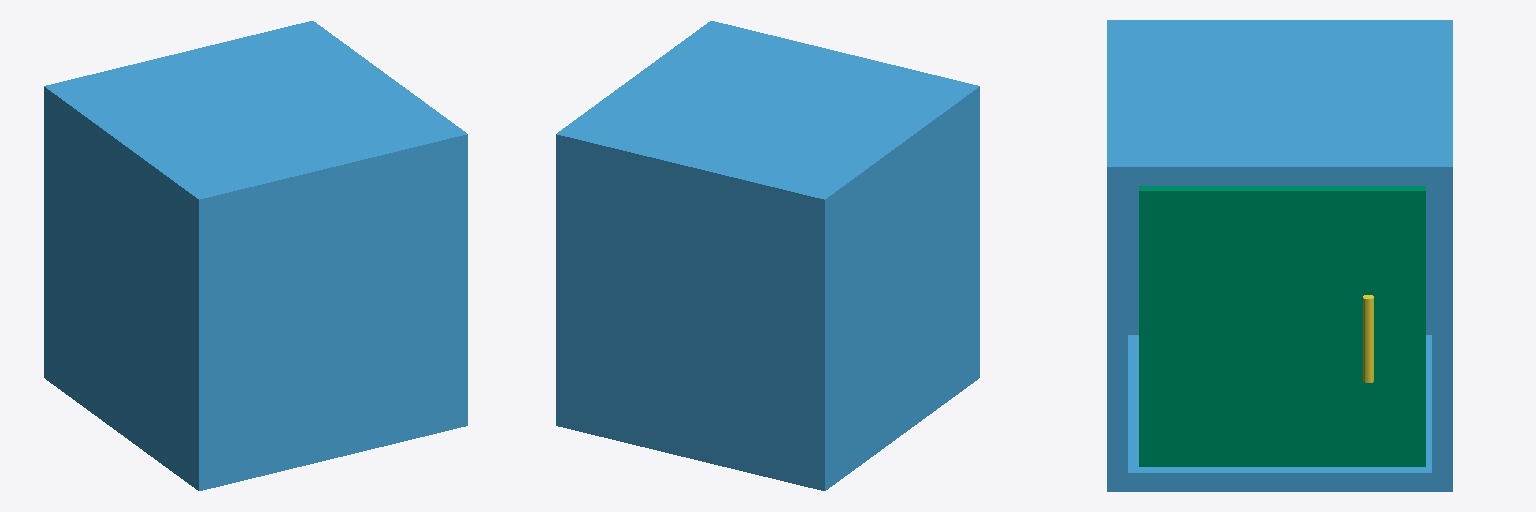
The robot description file, URDF, robot "my_cabinet":
<?xml version="1.0" ?>
<robot name="my_cabinet">
	<link name="world"/>
	<joint name="virtual_joint" type="fixed">
		<parent link="world"/>
		<child link="base_cabinet_link"/>
		<origin xyz="0.0 0.0 0.0" rpy="0.0 0.0 0.0"/>
	</joint>
	<link name="base_cabinet_link">
		<visual>
			<origin xyz="0.0 -0.0025 -0.1463253266867344" rpy="0.0 0.0 0.0"/>
			<geometry>
				<box size="0.3 0.29970292418394606 0.018"/>
			</geometry>
		</visual>
		<collision name="base_cabinet_link_collision_0">
			<origin xyz="0.0 -0.0025 -0.1463253266867344" rpy="0.0 0.0 0.0"/>
			<geometry>
				<box size="0.3 0.29970292418394606 0.018"/>
			</geometry>
		</collision>
		<visual>
			<origin xyz="0.0 0.13835146209197305 0.0" rpy="0.0 0.0 0.0"/>
			<geometry>
				<box size="0.3 0.018 0.3106506533734688"/>
			</geometry>
		</visual>
		<collision name="base_cabinet_link_collision_1">
			<origin xyz="0.0 0.13835146209197305 0.0" rpy="0.0 0.0 0.0"/>
			<geometry>
				<box size="0.3 0.018 0.3106506533734688"/>
			</geometry>
		</collision>
		<visual>
			<origin xyz="0.0 -0.14335146209197305 0.0" rpy="0.0 0.0 0.0"/>
			<geometry>
				<box size="0.3 0.018 0.3106506533734688"/>
			</geometry>
		</visual>
		<collision name="base_cabinet_link_collision_2">
			<origin xyz="0.0 -0.14335146209197305 0.0" rpy="0.0 0.0 0.0"/>
			<geometry>
				<box size="0.3 0.018 0.3106506533734688"/>
			</geometry>
		</collision>
		<visual>
			<origin xyz="0.0 -0.0025 0.1463253266867344" rpy="0.0 0.0 0.0"/>
			<geometry>
				<box size="0.3 0.29970292418394606 0.018"/>
			</geometry>
		</visual>
		<collision name="base_cabinet_link_collision_3">
			<origin xyz="0.0 -0.0025 0.1463253266867344" rpy="0.0 0.0 0.0"/>
			<geometry>
				<box size="0.3 0.29970292418394606 0.018"/>
			</geometry>
		</collision>
		<visual>
			<origin xyz="-0.141 -0.0025 0.0" rpy="0.0 0.0 0.0"/>
			<geometry>
				<box size="0.018 0.29970292418394606 0.3106506533734688"/>
			</geometry>
		</visual>
		<collision name="base_cabinet_link_collision_4">
			<origin xyz="-0.141 -0.0025 0.0" rpy="0.0 0.0 0.0"/>
			<geometry>
				<box size="0.018 0.29970292418394606 0.3106506533734688"/>
			</geometry>
		</collision>
		<inertial>
			<mass value="0.200000"/>
			<inertia ixx="0.003105" ixy="0.0" ixz="0.0" iyy="0.003108" iyz="0.0" izz="0.002997"/>
		</inertial>
	</link>
	<link name="door_link">
		<visual>
			<origin xyz="0.0 -0.12435146209197304 0.0"/>
			<geometry>
				<box size="0.018 0.24870292418394607 0.26465065337346877"/>
			</geometry>
		</visual>
		<collision name="door_link_collision">
			<origin xyz="0.0 -0.12435146209197304 0.0"/>
			<geometry>
				<box size="0.018 0.24870292418394607 0.26465065337346877"/>
			</geometry>
		</collision>
		<inertial>
			<mass value="0.200000"/>
			<inertia ixx="0.002198" ixy="0.0" ixz="0.0" iyy="0.001173" iyz="0.0" izz="0.001036"/>
		</inertial>
	</link>
	<joint name="door_joint" type="revolute">
		<origin xyz="0.141 -0.12435146209197304 0.0" rpy="0.000000 -0.000000 3.141593"/>
		<axis xyz="0 0 1"/>
		<parent link="base_cabinet_link"/>
		<child link="door_link"/>
		<limit effort="50" lower="-1.658062789394613" upper="0" velocity="10"/>
		<dynamics friction="3.5" damping="3.5"/>
	</joint>
	<link name="handle_link">
		<visual>
			<origin xyz="0.0 0.0 0.0" rpy="0.0 0.0 0.0"/>
			<geometry>
				<cylinder length="0.08" radius="0.005"/>
			</geometry>
		</visual>
		<collision name="handle_link_collision_0">
			<origin xyz="0.0 0.0 0.0" rpy="0.0 0.0 0.0"/>
			<geometry>
				<cylinder length="0.08" radius="0.005"/>
			</geometry>
		</collision>
		<visual>
			<origin xyz="-0.01 0.0 0.02" rpy="0.0 1.5707963267948966 0.0"/>
			<geometry>
				<cylinder length="0.02" radius="0.003"/>
			</geometry>
		</visual>
		<collision name="handle_link_collision_1">
			<origin xyz="-0.01 0.0 0.02" rpy="0.0 1.5707963267948966 0.0"/>
			<geometry>
				<cylinder length="0.01" radius="0.003"/>
			</geometry>
		</collision>
		<visual>
			<origin xyz="-0.01 0.0 -0.02" rpy="0.0 1.5707963267948966 0.0"/>
			<geometry>
				<cylinder length="0.02" radius="0.003"/>
			</geometry>
		</visual>
		<collision name="handle_link_collision_2">
			<origin xyz="-0.01 0.0 -0.02" rpy="0.0 1.5707963267948966 0.0"/>
			<geometry>
				<cylinder length="0.02" radius="0.003"/>
			</geometry>
		</collision>
		<inertial>
			<mass value="0.050000"/>
			<inertia ixx="0.000027" ixy="0.0" ixz="0.0" iyy="0.000029" iyz="0.0" izz="0.000003"/>
		</inertial>
	</link>
	<joint name="handle_joint" type="fixed">
		<origin xyz="-0.028999999999999998 -0.19870292418394608 0.0" rpy="0.000000 -0.000000 3.141593"/>
		<parent link="door_link"/>
		<child link="handle_link"/>
	</joint>
	<gazebo reference="base_cabinet_link">
		<sensor name="main_sensor" type="contact">
			<selfCollide>true</selfCollide>
			<alwaysOn>true</alwaysOn>
			<updateRate>5.0</updateRate>
			<material>Gazebo/Red</material>
			<contact>
				<collision>base_cabinet_link_collision_0_collision</collision>
				<collision>base_cabinet_link_collision_1_collision</collision>
				<collision>base_cabinet_link_collision_2_collision</collision>
				<collision>base_cabinet_link_collision_3_collision</collision>
				<collision>base_cabinet_link_collision_4_collision</collision>
			</contact>
			<plugin name="gazebo_ros_bumper_controller" filename="libgazebo_ros_bumper.so">
				<bumperTopicName>/contact</bumperTopicName>
				<frameName>world</frameName>
			</plugin>
		</sensor>
	</gazebo>
	<gazebo reference="door_link">
		<sensor name="main_sensor" type="contact">
			<selfCollide>true</selfCollide>
			<alwaysOn>true</alwaysOn>
			<updateRate>5.0</updateRate>
			<material>Gazebo/Red</material>
			<contact>
				<collision>door_link_collision_collision</collision>
			</contact>
			<plugin name="gazebo_ros_bumper_controller" filename="libgazebo_ros_bumper.so">
				<bumperTopicName>/contact_door</bumperTopicName>
				<frameName>contact_door</frameName>
			</plugin>
		</sensor>
	</gazebo>
	<gazebo reference="door_link">
		<mu>3.0</mu>
		<mu2>3.0</mu2>
		<kp>10000000</kp>
		<kd>100</kd>
	</gazebo>
</robot>

--- Facts derived from the render (not from the file) ---
Views: 3 orthographic renders of the robot side by side, from view 1: azimuth 30°, elevation 25°; view 2: azimuth 150°, elevation 25°; view 3: azimuth 270°, elevation 25°.
Robot: my_cabinet — 4 links, 3 joints (1 revolute, 2 fixed); root link world; default pose: all joints at 0.
Visible links, largest first — view 1: base_cabinet_link; view 2: base_cabinet_link; view 3: base_cabinet_link, door_link, handle_link.
Boxes of the visible links, x1=… form: base_cabinet_link: x1=44, y1=21, x2=467, y2=490; base_cabinet_link: x1=556, y1=21, x2=979, y2=490; base_cabinet_link: x1=1107, y1=20, x2=1452, y2=491; door_link: x1=1139, y1=186, x2=1425, y2=466; handle_link: x1=1363, y1=295, x2=1373, y2=382.
Bounding box of the posed robot: 0.325 × 0.2997 × 0.3107 m (x, y, z).
Geometry: primitives only (box / cylinder / sphere), no mesh files.
